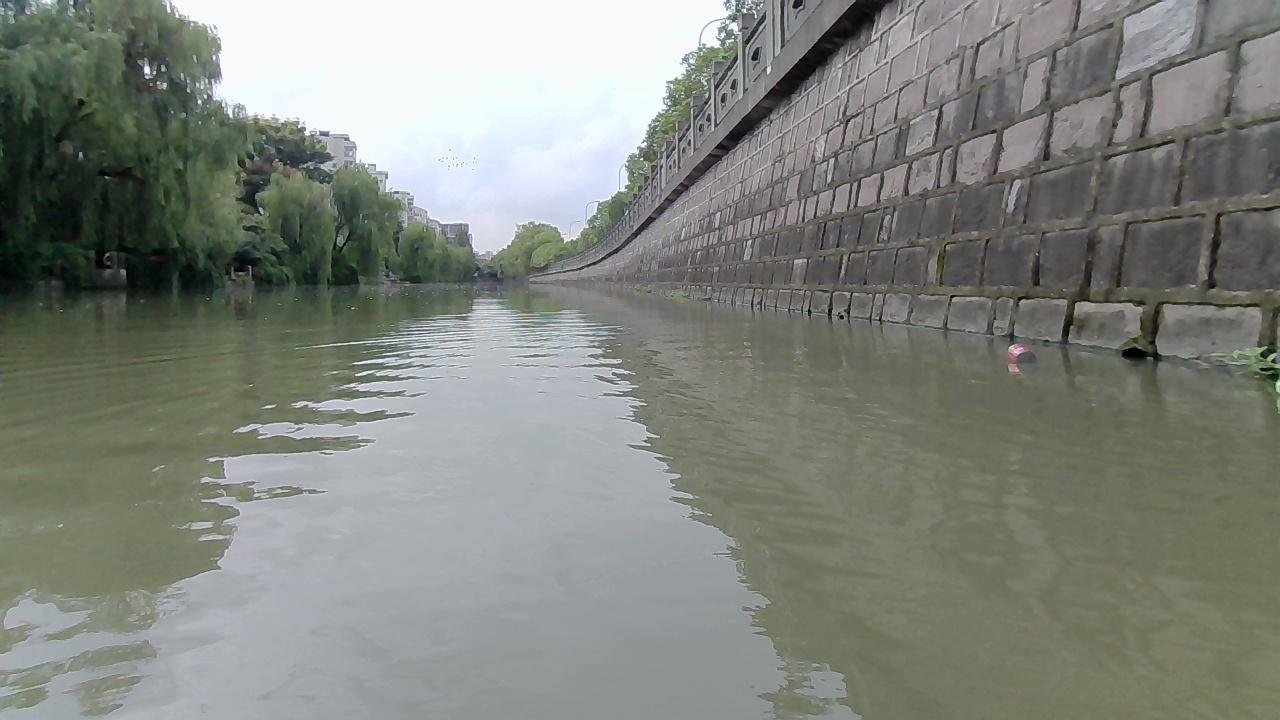bottle: (1007, 343, 1036, 363)
